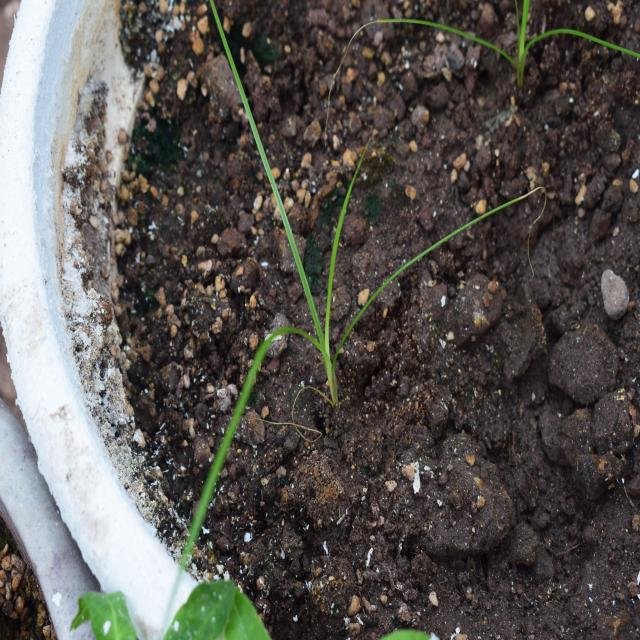sedge: (145, 62, 459, 525)
